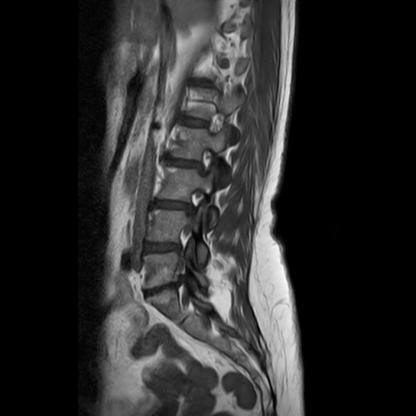Disc Bulgerotation: (145, 281, 183, 300), (143, 240, 183, 257)
